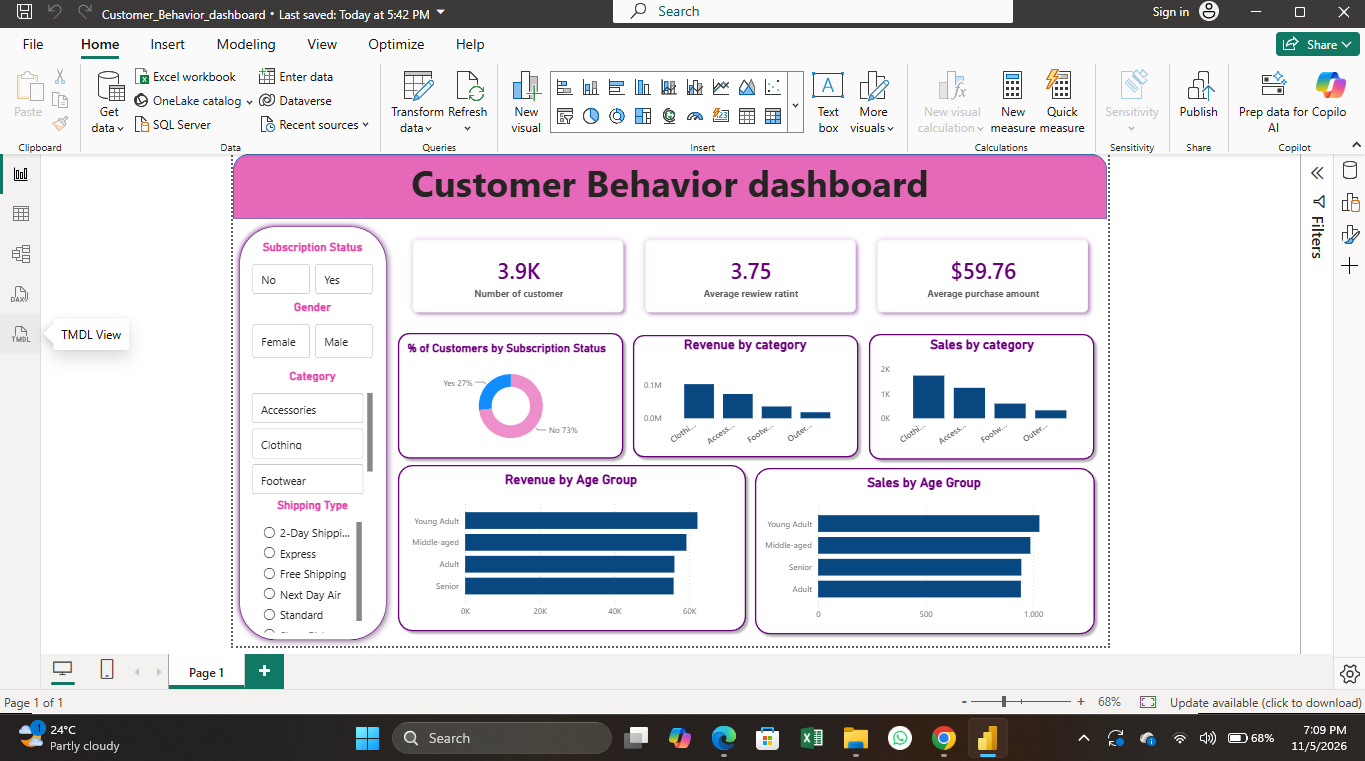

Layout of this report page (visuals, bound fields, positions):
{"tool":"powerbi","page":{"name":"Page 1","canvas":[1280,720],"ordinal":0},"visuals":[{"type":"cardVisual","fields":{"Data":["public customer.Number of customer","public customer.Average rewiew ratint","public customer.Average purchase amount"]},"box":[234,96,1046,164],"z":0},{"type":"shape","box":[0,0,1279.4,95.2],"z":1000},{"type":"textbox","box":[0,0,1279.4,95.2],"z":2000},{"type":"shape","box":[234,254,344.4,198.4],"z":3000},{"type":"donutChart","title":"% of Customers by Subscription Status","fields":{"Category":["public customer.subscription_status"],"Y":["CountNonNull(public customer.customer_id)"]},"box":[250,274,312.7,160.3],"z":4000},{"type":"shape","box":[923.8,255.6,344.4,198.4],"z":5000},{"type":"shape","box":[578,258,344.4,193.7],"z":6000},{"type":"clusteredColumnChart","title":"Revenue by category","fields":{"Y":["Sum(public customer.purchase_amount)"],"Category":["public customer.category"]},"box":[596,268,308,170],"z":7000},{"type":"clusteredColumnChart","title":"Sales by category","fields":{"Category":["public customer.category"],"Y":["CountNonNull(public customer.customer_id)"]},"box":[942,268,308,170],"z":8000},{"type":"shape","box":[0,96,234,624],"z":9000},{"type":"advancedSlicerVisual","fields":{"Values":["public customer.subscription_status"]},"box":[24,126,186,84],"z":10000},{"type":"advancedSlicerVisual","fields":{"Values":["public customer.gender"]},"box":[24,214,186,90],"z":11000},{"type":"advancedSlicerVisual","fields":{"Values":["public customer.category"]},"box":[24,314,186,190],"z":11001},{"type":"listSlicer","fields":{"Values":["public customer.shipping_type"]},"box":[40,504,154,202],"z":11002},{"type":"shape","box":[234,448,524,258],"z":11004},{"type":"clusteredBarChart","title":"Revenue by Age Group","fields":{"Y":["Sum(public customer.purchase_amount)"],"Category":["public customer.age_group"]},"box":[252,466,486,222],"z":11005},{"type":"shape","box":[756,452,512,258],"z":11006},{"type":"clusteredBarChart","title":"Sales by Age Group","fields":{"Y":["CountNonNull(public customer.customer_id)"],"Category":["public customer.age_group"]},"box":[768,470,486,222],"z":11007}]}

Visuals, with their boxes on the page's 1280x720 design canvas (x1, y1, x2, y2). These are canvas units, not pixel positions in the 1365x761 screenshot, which may show the page scaled, cropped or inside an application window:
cardVisual - public customer.Number of customer x public customer.Average rewiew ratint: {"left": 234, "top": 96, "right": 1280, "bottom": 260}
shape: {"left": 0, "top": 0, "right": 1279, "bottom": 95}
textbox: {"left": 0, "top": 0, "right": 1279, "bottom": 95}
shape: {"left": 234, "top": 254, "right": 578, "bottom": 452}
"% of Customers by Subscription Status" donutChart: {"left": 250, "top": 274, "right": 563, "bottom": 434}
shape: {"left": 924, "top": 256, "right": 1268, "bottom": 454}
shape: {"left": 578, "top": 258, "right": 922, "bottom": 452}
"Revenue by category" clusteredColumnChart: {"left": 596, "top": 268, "right": 904, "bottom": 438}
"Sales by category" clusteredColumnChart: {"left": 942, "top": 268, "right": 1250, "bottom": 438}
shape: {"left": 0, "top": 96, "right": 234, "bottom": 720}
advancedSlicerVisual - public customer.subscription_status: {"left": 24, "top": 126, "right": 210, "bottom": 210}
advancedSlicerVisual - public customer.gender: {"left": 24, "top": 214, "right": 210, "bottom": 304}
advancedSlicerVisual - public customer.category: {"left": 24, "top": 314, "right": 210, "bottom": 504}
listSlicer - public customer.shipping_type: {"left": 40, "top": 504, "right": 194, "bottom": 706}
shape: {"left": 234, "top": 448, "right": 758, "bottom": 706}
"Revenue by Age Group" clusteredBarChart: {"left": 252, "top": 466, "right": 738, "bottom": 688}
shape: {"left": 756, "top": 452, "right": 1268, "bottom": 710}
"Sales by Age Group" clusteredBarChart: {"left": 768, "top": 470, "right": 1254, "bottom": 692}
